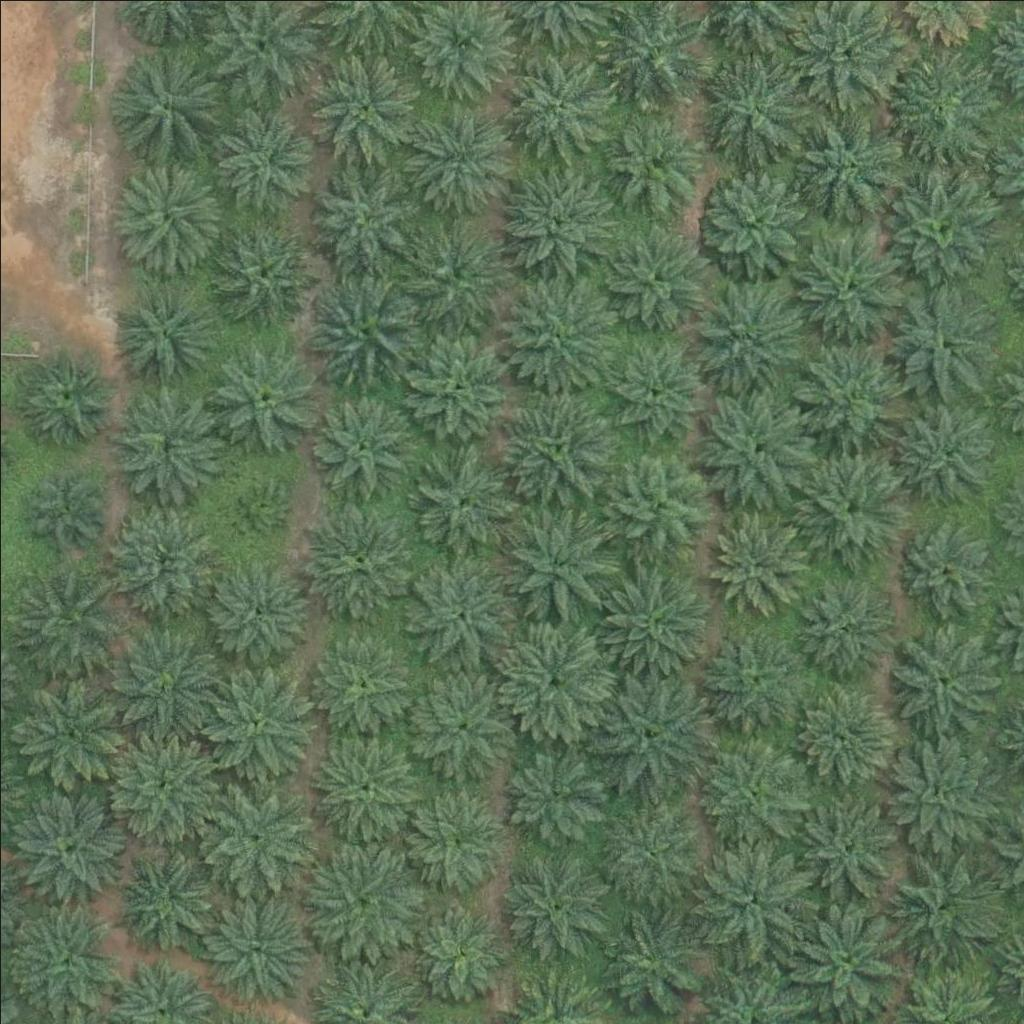Kelapa_Sawit: (104, 506, 217, 620), (198, 665, 311, 779), (592, 905, 705, 1019), (603, 449, 716, 563), (498, 391, 611, 505), (498, 273, 611, 387), (399, 217, 512, 331), (398, 102, 511, 216), (100, 726, 213, 839), (106, 631, 219, 744), (199, 891, 312, 1004), (195, 775, 308, 888), (303, 842, 416, 955), (496, 623, 609, 736), (499, 511, 612, 624), (595, 793, 708, 906), (590, 674, 703, 787), (597, 562, 710, 675), (693, 840, 806, 953), (888, 738, 1001, 851), (888, 622, 1001, 735), (890, 510, 1003, 623), (889, 397, 1002, 510), (883, 284, 996, 397), (883, 170, 996, 283), (793, 229, 906, 342), (791, 103, 904, 216), (502, 161, 615, 274), (495, 43, 608, 156), (206, 340, 319, 453), (209, 218, 322, 331), (110, 383, 223, 496), (106, 279, 219, 392), (106, 156, 219, 269), (111, 44, 224, 157), (303, 727, 415, 841), (500, 846, 612, 960), (398, 327, 510, 441), (306, 162, 418, 276), (307, 45, 419, 159), (8, 900, 120, 1013), (11, 789, 123, 902), (6, 677, 118, 790), (7, 570, 119, 683), (301, 502, 413, 615), (402, 665, 514, 778), (398, 555, 510, 668), (693, 734, 805, 847), (695, 621, 807, 734), (788, 903, 900, 1016), (791, 792, 903, 905), (885, 844, 997, 957), (883, 48, 995, 161), (798, 451, 910, 564), (795, 335, 907, 448), (696, 391, 808, 504), (690, 279, 802, 392), (696, 167, 808, 280), (701, 54, 813, 167), (597, 224, 709, 337), (404, 446, 516, 559), (306, 270, 418, 383), (108, 850, 208, 951), (704, 514, 804, 615), (796, 682, 896, 783), (791, 576, 891, 677), (600, 113, 700, 214), (308, 393, 408, 494), (203, 562, 303, 662), (310, 631, 410, 731), (409, 899, 509, 999), (404, 785, 504, 885), (501, 741, 601, 841), (605, 336, 705, 436), (213, 111, 313, 211), (20, 351, 108, 440), (24, 464, 99, 540), (220, 474, 282, 537)
